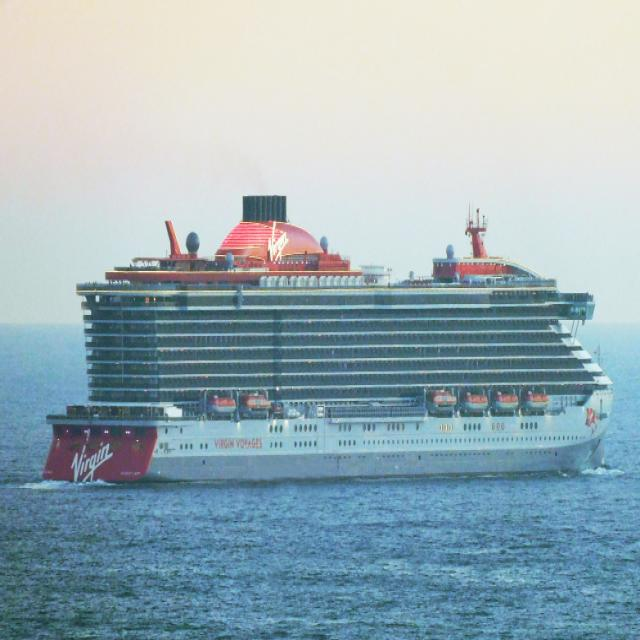cruises: (37, 189, 619, 492)
